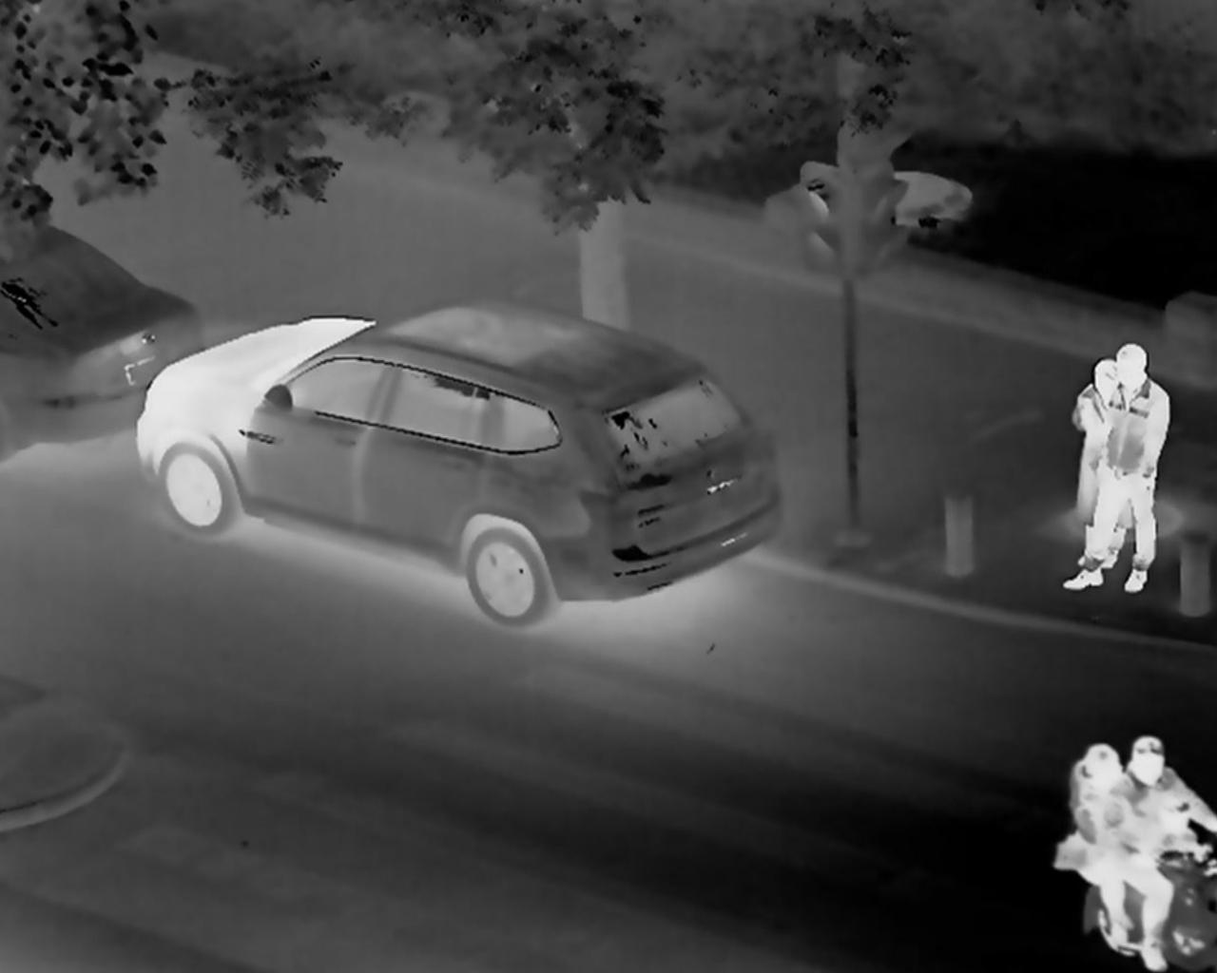person: (1131, 732, 1210, 933), (1095, 347, 1156, 601), (1072, 863, 1135, 951), (1081, 741, 1127, 852), (1087, 364, 1115, 516)
